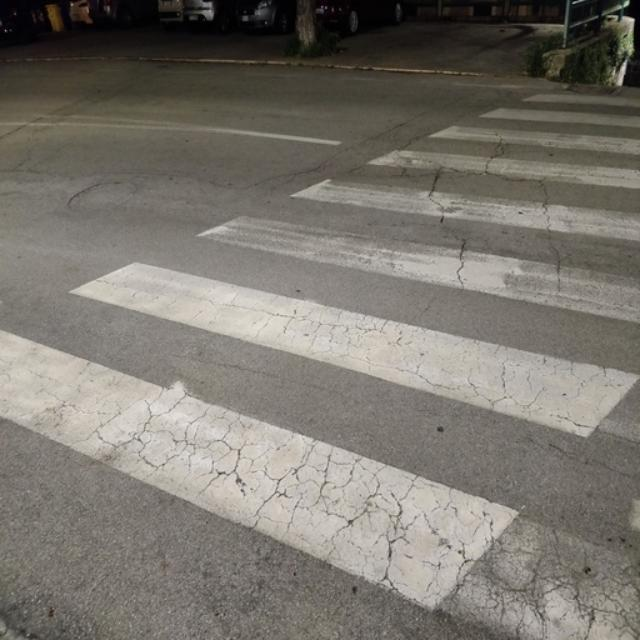sidewalk: (0, 80, 640, 607)
